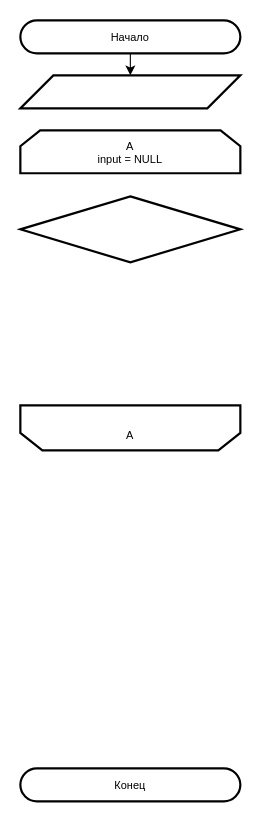
Image size: 260x821. Some labels were removed from this diagram. The centre of each missing label's shape, as x and y in pixels:
"strlen(input) = 0" belongs at (x=130, y=229).
"Ввод input" belongs at (x=130, y=91).
